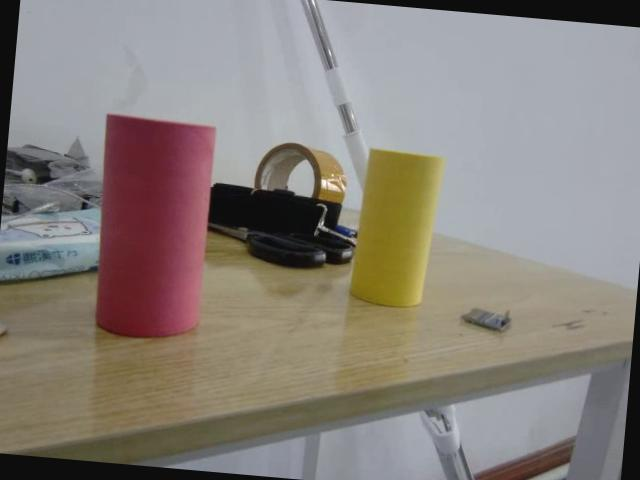red_cylinder: (88, 115, 218, 341)
yellow_cylinder: (349, 146, 444, 308)
